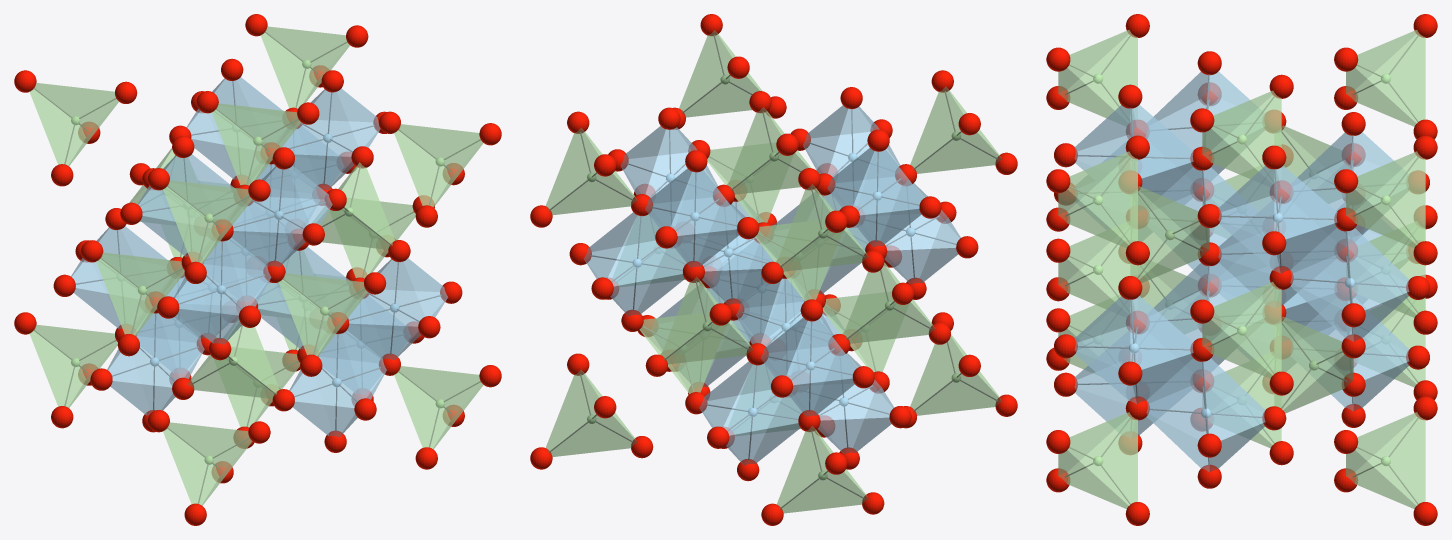
The model's file is Li4Ti5O12_spinel.fbx.
3 renders of one model, left to right at view 1: azimuth 30°, elevation 25°; view 2: azimuth 150°, elevation 25°; view 3: azimuth 270°, elevation 25°, orthographic. The views are drawn at different scales.
Parts seen in each view (by area): view 1: Shape_IndexedFaceSet.044, Shape_IndexedFaceSet.040, Shape_IndexedFaceSet.056, Shape_IndexedFaceSet.060, Shape_IndexedFaceSet.068, Shape_IndexedFaceSet.016, Shape_IndexedFaceSet.036, Shape_IndexedFaceSet.064, Shape_IndexedFaceSet.052, Shape_IndexedFaceSet.028, Shape_IndexedFaceSet.007, Shape_IndexedFaceSet.003 (+86 smaller); view 2: Shape_IndexedFaceSet.023, Shape_IndexedFaceSet.063, Shape_IndexedFaceSet.067, Shape_IndexedFaceSet.051, Shape_IndexedFaceSet.071, Shape_IndexedFaceSet.055, Shape_IndexedFaceSet.059, Shape_IndexedFaceSet.039, Shape_IndexedFaceSet.031, Shape_IndexedFaceSet.047, Shape_IndexedFaceSet.152, Shape_IndexedFaceSet.176 (+86 smaller); view 3: Shape_IndexedFaceSet.049, Shape_IndexedFaceSet.053, Shape_IndexedFaceSet.069, Shape_IndexedFaceSet.033, Shape_IndexedFaceSet.045, Shape_IndexedFaceSet.041, Shape_IndexedFaceSet.054, Shape_IndexedFaceSet.050, Shape_IndexedFaceSet.070, Shape_IndexedFaceSet.034, Shape_IndexedFaceSet.042, Shape_IndexedFaceSet.046 (+169 smaller).
Part boxes in pixels (<box>): Shape_IndexedFaceSet.044: <box>394,124,483,207</box>; Shape_IndexedFaceSet.040: <box>394,366,483,449</box>; Shape_IndexedFaceSet.056: <box>163,422,252,505</box>; Shape_IndexedFaceSet.060: <box>163,180,252,263</box>; Shape_IndexedFaceSet.068: <box>29,83,118,165</box>; Shape_IndexedFaceSet.016: <box>278,273,367,356</box>; Shape_IndexedFaceSet.036: <box>96,252,184,335</box>; Shape_IndexedFaceSet.064: <box>29,325,117,407</box>; Shape_IndexedFaceSet.052: <box>260,26,349,108</box>; Shape_IndexedFaceSet.028: <box>212,103,300,185</box>; Shape_IndexedFaceSet.007: <box>191,326,279,398</box>; Shape_IndexedFaceSet.003: <box>320,167,394,249</box>; Shape_IndexedFaceSet.023: <box>662,281,749,363</box>; Shape_IndexedFaceSet.063: <box>910,91,998,173</box>; Shape_IndexedFaceSet.067: <box>777,430,865,512</box>; Shape_IndexedFaceSet.051: <box>546,374,634,456</box>; Shape_IndexedFaceSet.071: <box>777,189,865,271</box>; Shape_IndexedFaceSet.055: <box>546,132,634,214</box>; Shape_IndexedFaceSet.059: <box>910,335,998,415</box>; Shape_IndexedFaceSet.039: <box>844,263,932,343</box>; Shape_IndexedFaceSet.031: <box>728,112,810,194</box>; Shape_IndexedFaceSet.047: <box>679,34,761,117</box>; Shape_IndexedFaceSet.152: <box>723,363,801,435</box>; Shape_IndexedFaceSet.176: <box>607,214,686,286</box>; Shape_IndexedFaceSet.049: <box>1355,412,1425,505</box>; Shape_IndexedFaceSet.053: <box>1355,151,1425,244</box>; Shape_IndexedFaceSet.069: <box>1355,30,1425,123</box>; Shape_IndexedFaceSet.033: <box>1211,282,1281,375</box>; Shape_IndexedFaceSet.045: <box>1067,151,1137,244</box>; Shape_IndexedFaceSet.041: <box>1068,412,1137,505</box>; Shape_IndexedFaceSet.054: <box>1355,156,1425,247</box>; Shape_IndexedFaceSet.050: <box>1355,417,1425,508</box>; Shape_IndexedFaceSet.070: <box>1355,35,1425,125</box>; Shape_IndexedFaceSet.034: <box>1211,286,1281,377</box>; Shape_IndexedFaceSet.042: <box>1067,417,1137,508</box>; Shape_IndexedFaceSet.046: <box>1067,156,1137,247</box>.
Bounding box in the file's own units: 1135 × 1135 × 1135.
